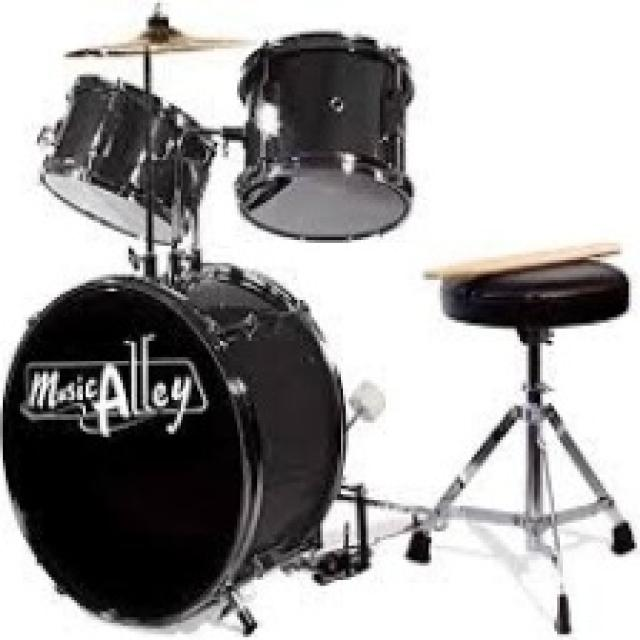drums: (6, 7, 415, 616)
